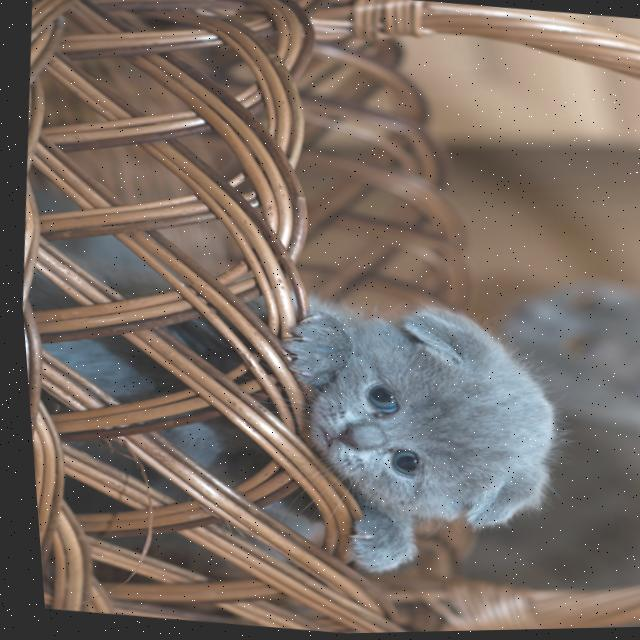Scottish Fold: (248, 282, 575, 594)
